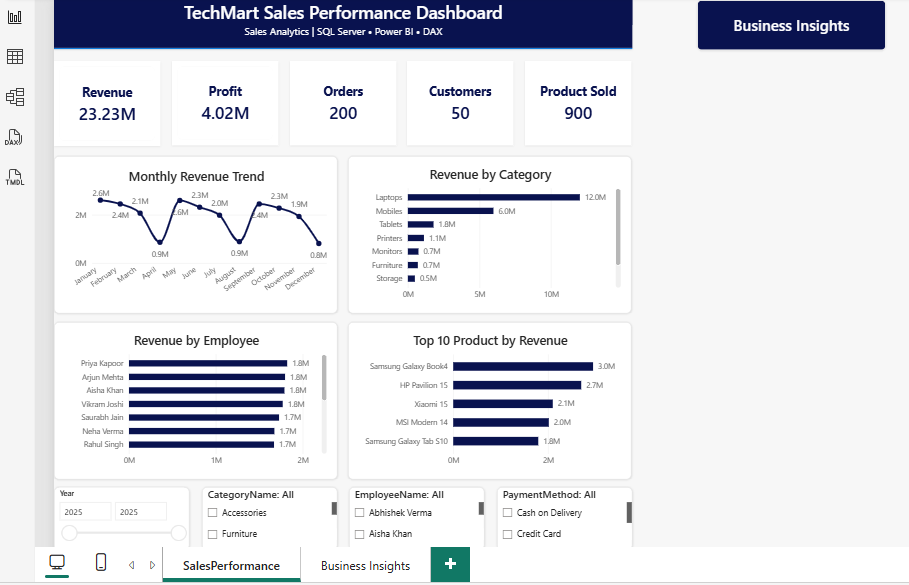

What the dashboard file says about the page in this screenshot:
{"tool":"powerbi","page":{"name":"SalesPerformance","canvas":[1920,1080],"ordinal":0},"visuals":[{"type":"cardVisual","fields":{"Data":["DAX_Measures.Total Revenue"]},"box":[0,96.9,169.2,135.4],"z":0},{"type":"cardVisual","fields":{"Data":["DAX_Measures.Total Profit"]},"box":[186.9,96.9,169.2,133.8],"z":1000},{"type":"cardVisual","fields":{"Data":["DAX_Measures.Total Orders"]},"box":[373.8,96.9,169.2,133.8],"z":2000},{"type":"cardVisual","fields":{"Data":["DAX_Measures.Total Customers"]},"box":[560.8,96.9,169.2,133.8],"z":3000},{"type":"cardVisual","fields":{"Data":["DAX_Measures.Product Sold"]},"box":[747.7,96.9,169.2,133.8],"z":4000},{"type":"lineChart","title":"Monthly Revenue Trend","fields":{"Category":["Date.Date.Variation.Date Hierarchy.Month"],"Y":["DAX_Measures.Total Revenue"]},"box":[0,247.2,450,250],"z":5000},{"type":"clusteredBarChart","title":"Revenue by Category","fields":{"Category":["Categories.CategoryName"],"Y":["DAX_Measures.Total Revenue"]},"box":[466.2,247.2,450,250],"z":6000},{"type":"clusteredBarChart","title":"Revenue by Employee","fields":{"Category":["Employees.EmployeeName"],"Y":["DAX_Measures.Total Revenue"]},"box":[0,511.8,450,250],"z":6001},{"type":"clusteredBarChart","title":"Top 10 Product by Revenue","fields":{"Category":["Product.ProductName"],"Y":["DAX_Measures.Total Revenue"]},"box":[466.3,511.8,450,250],"z":6002},{"type":"slicer","fields":{"Values":["Date.Year"]},"box":[0,773.3,215,100],"z":6003},{"type":"slicer","fields":{"Values":["Categories.CategoryName"]},"box":[234.4,773.3,215,100],"z":6004},{"type":"slicer","fields":{"Values":["Employees.EmployeeName"]},"box":[468.8,773.3,215,100],"z":6005},{"type":"slicer","fields":{"Values":["Orders.PaymentMethod"]},"box":[703.2,773.3,215,100],"z":6006},{"type":"shape","title":"TechMart Sales Performance Dashboard","box":[0,0,918.5,78.5],"z":6007},{"type":"actionButton","title":"Business Insights","box":[1020,0,300,80],"z":6008}]}

Visuals, with their boxes on the page's 1920x1080 design canvas (x1, y1, x2, y2). These are canvas units, not pixel positions in the 909x585 screenshot, which may show the page scaled, cropped or inside an application window:
cardVisual - DAX_Measures.Total Revenue: (left=0, top=97, right=169, bottom=232)
cardVisual - DAX_Measures.Total Profit: (left=187, top=97, right=356, bottom=231)
cardVisual - DAX_Measures.Total Orders: (left=374, top=97, right=543, bottom=231)
cardVisual - DAX_Measures.Total Customers: (left=561, top=97, right=730, bottom=231)
cardVisual - DAX_Measures.Product Sold: (left=748, top=97, right=917, bottom=231)
"Monthly Revenue Trend" lineChart: (left=0, top=247, right=450, bottom=497)
"Revenue by Category" clusteredBarChart: (left=466, top=247, right=916, bottom=497)
"Revenue by Employee" clusteredBarChart: (left=0, top=512, right=450, bottom=762)
"Top 10 Product by Revenue" clusteredBarChart: (left=466, top=512, right=916, bottom=762)
slicer - Date.Year: (left=0, top=773, right=215, bottom=873)
slicer - Categories.CategoryName: (left=234, top=773, right=449, bottom=873)
slicer - Employees.EmployeeName: (left=469, top=773, right=684, bottom=873)
slicer - Orders.PaymentMethod: (left=703, top=773, right=918, bottom=873)
"TechMart Sales Performance Dashboard" shape: (left=0, top=0, right=918, bottom=78)
"Business Insights" actionButton: (left=1020, top=0, right=1320, bottom=80)
